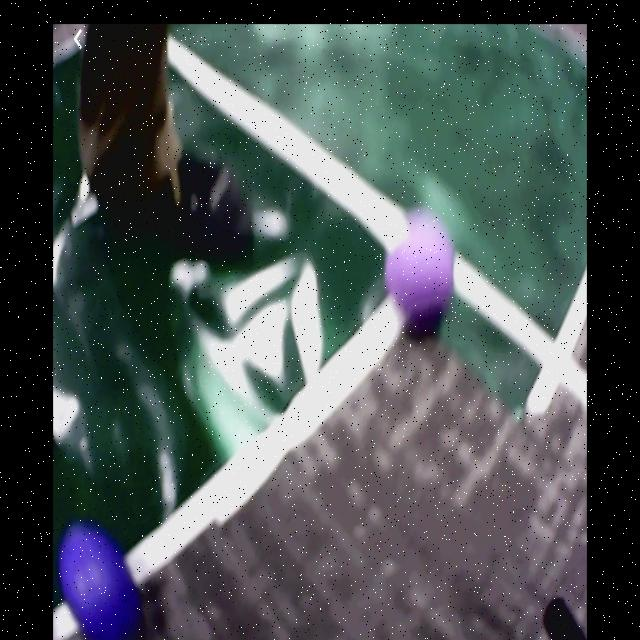ball: (380, 211, 457, 332), (59, 525, 143, 634)
